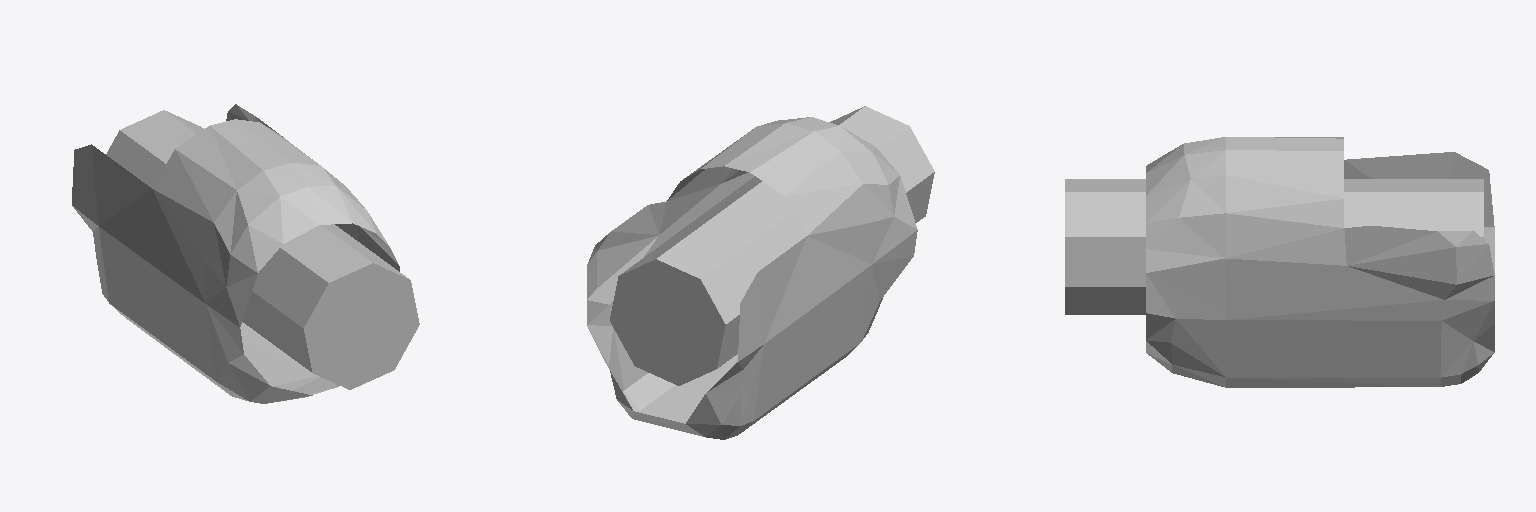
File: icub_simple_collision_r_upper_arm.obj
3 renders of one model, left to right at view 1: azimuth 30°, elevation 25°; view 2: azimuth 150°, elevation 25°; view 3: azimuth 270°, elevation 25°, orthographic.
Visible parts, largest first — view 1: r_arm_mesh_Cylinder.009; view 2: r_arm_mesh_Cylinder.009; view 3: r_arm_mesh_Cylinder.009.
Part boxes in pixels (x1,y1,x2,y2): r_arm_mesh_Cylinder.009: (72, 104, 419, 403); r_arm_mesh_Cylinder.009: (587, 106, 934, 439); r_arm_mesh_Cylinder.009: (1065, 137, 1494, 387).
Bounding box in the file's own units: 0.0712 × 0.0911 × 0.16.